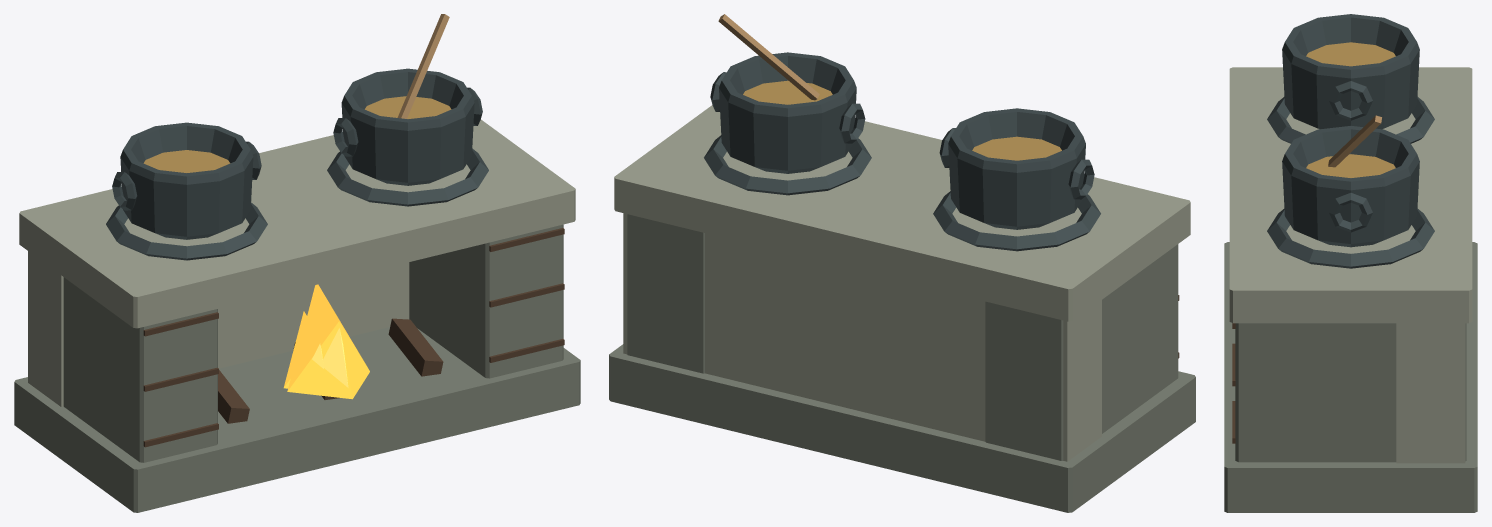
File: stove_diner.glb
3 renders of one model, left to right at view 1: azimuth 30°, elevation 25°; view 2: azimuth 150°, elevation 25°; view 3: azimuth 270°, elevation 25°, orthographic. The views are drawn at different scales.
Visible parts, largest first — view 1: geometry, fire; view 2: geometry; view 3: geometry.
Part boxes in pixels (bbox=[...]): geometry: bbox=[14, 14, 580, 512]; fire: bbox=[283, 284, 369, 399]; geometry: bbox=[609, 14, 1195, 512]; geometry: bbox=[1224, 14, 1477, 512].
Bounding box in the file's own units: 1.94 × 1.46 × 0.92.
